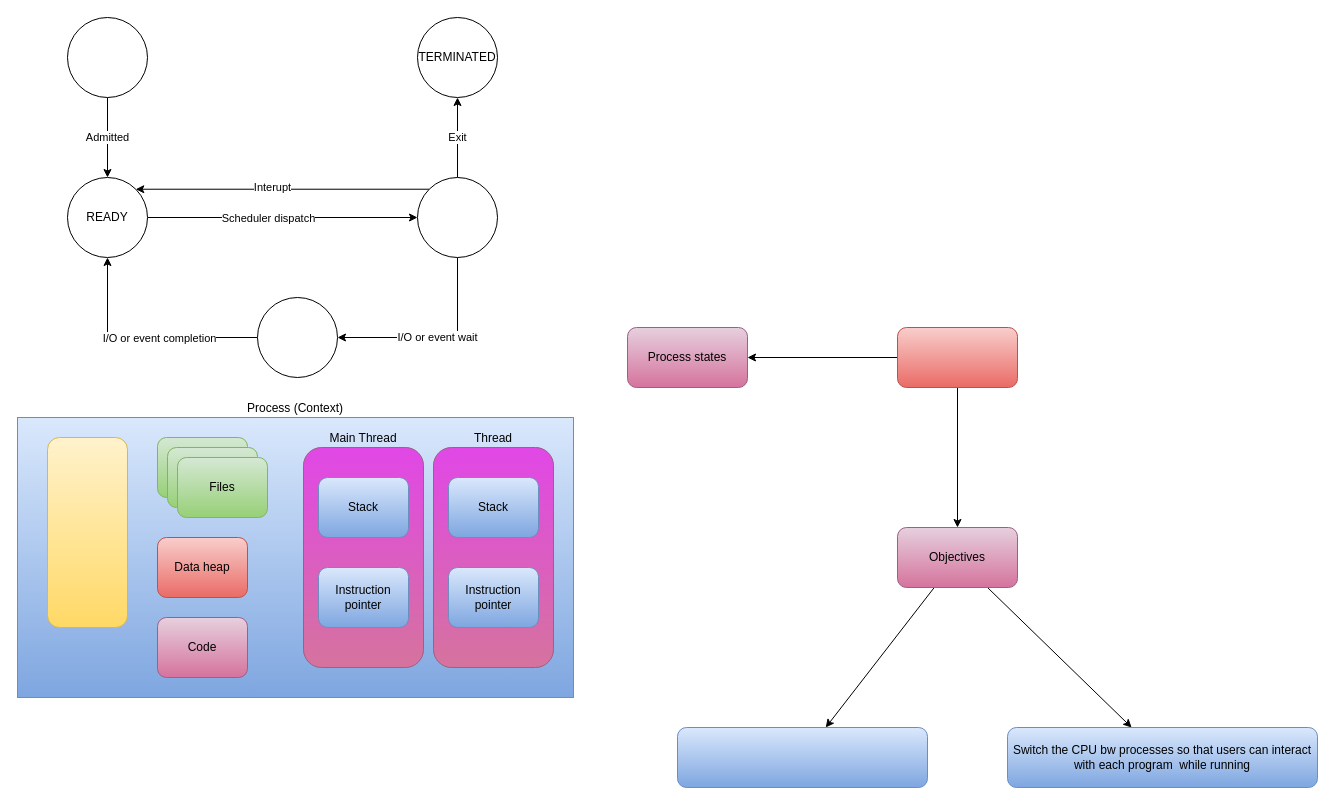
The diagram is 1335 pixels wide and 805 high, and some of its shapes have lost their labels. The box of each missing label's shape, as (x1, y1, x2, y2) in pixels:
NEW: (66, 16, 148, 98)
Pid Mode Priority: (46, 436, 128, 628)
Process scheduling: (896, 326, 1018, 388)
RUNNING: (416, 176, 498, 258)
Some processes running at all times, to maximize CPU utilization: (676, 726, 928, 788)
WAITING: (256, 296, 338, 378)
